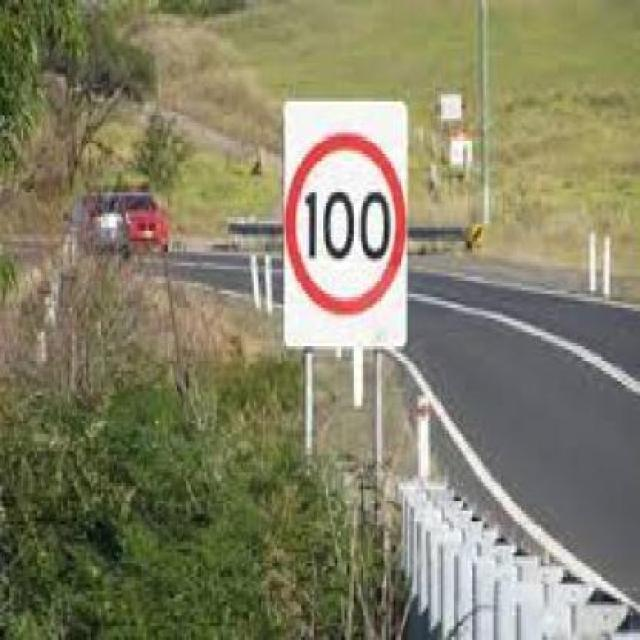forb_speed_over_100: (288, 134, 406, 314)
